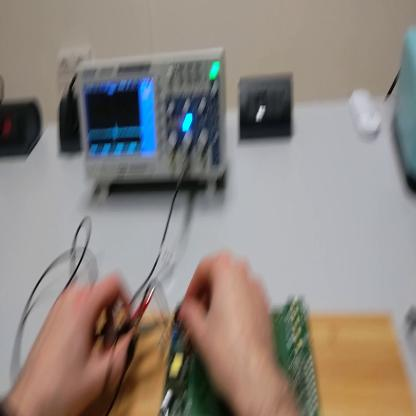hand: (21, 270, 134, 415), (179, 250, 281, 402)
low voltage board: (145, 269, 329, 416)
oscilloscope: (77, 44, 229, 202)
oscilloscope probe tip: (102, 315, 170, 337)
socket: (1, 101, 45, 160), (57, 97, 82, 155)
welder station: (392, 28, 416, 210)
working area: (83, 311, 416, 416)
